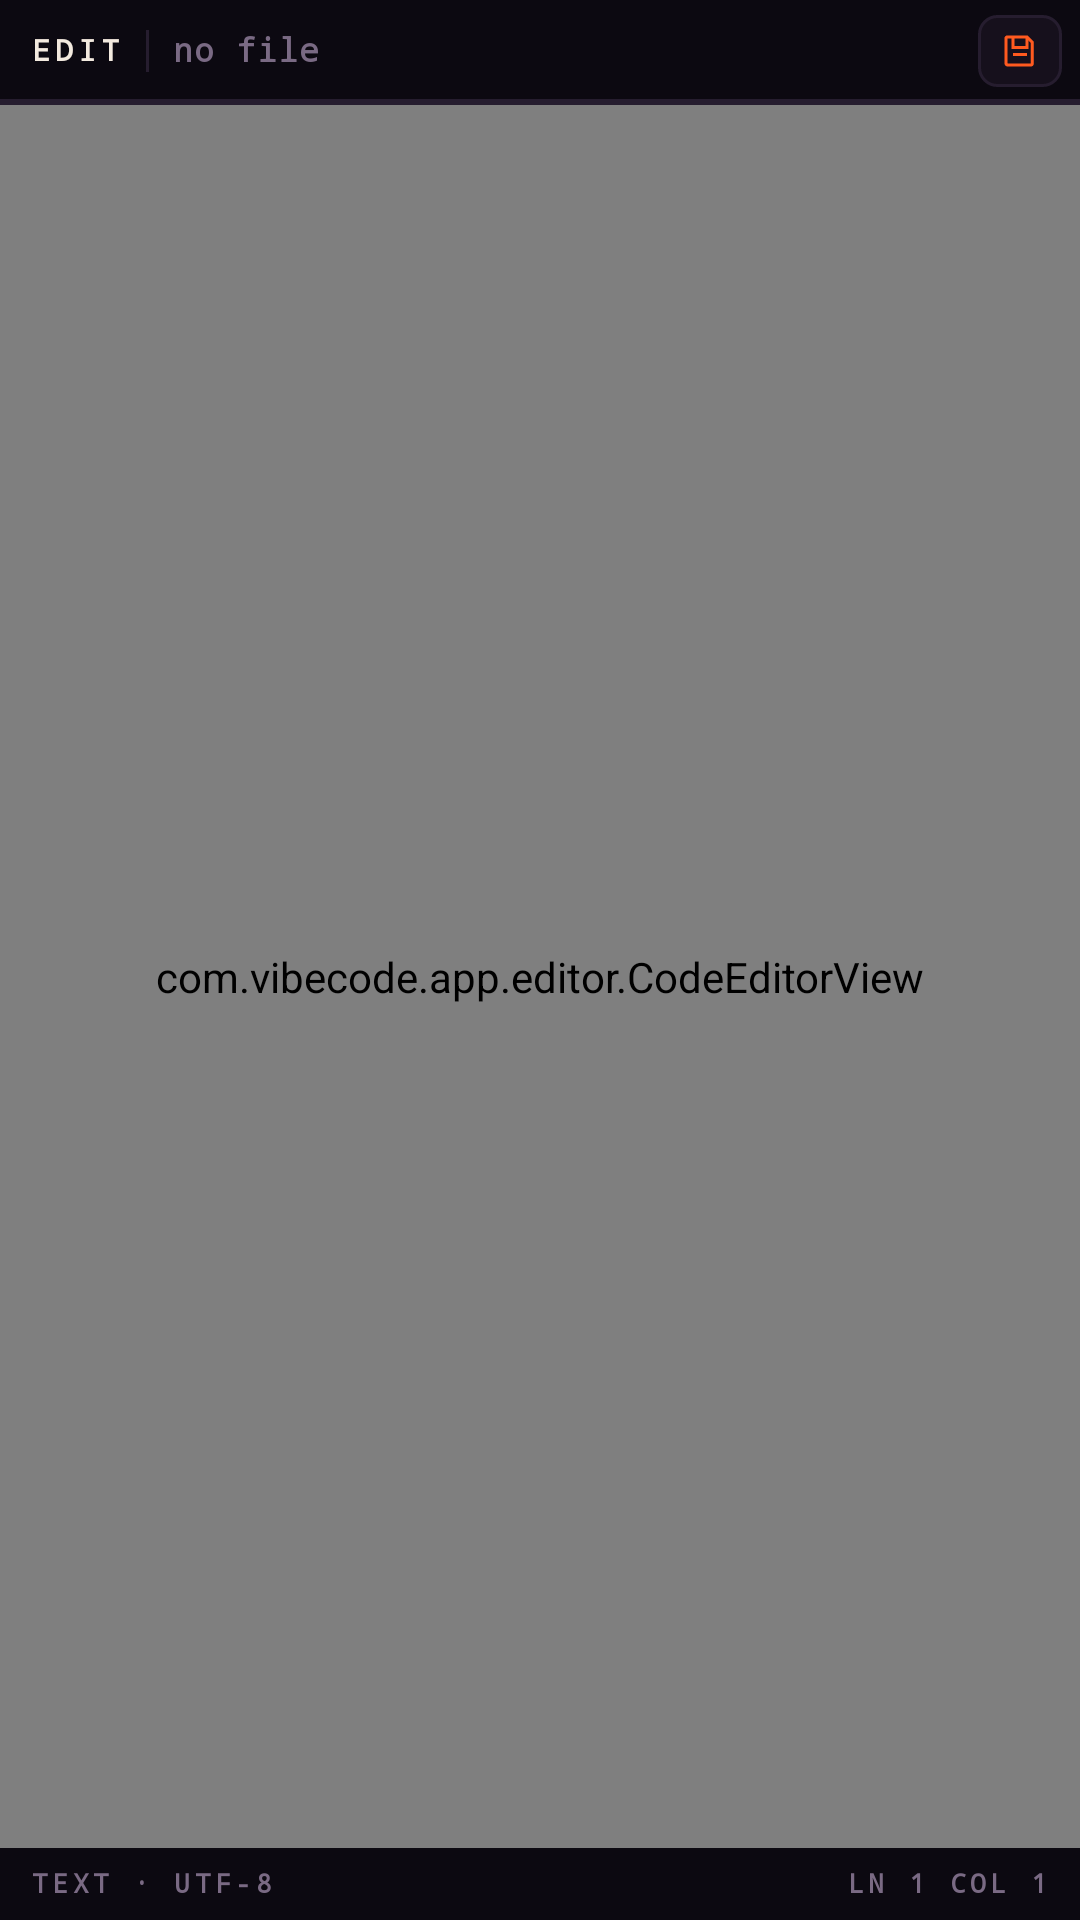

Screen size 1080*1920. Icon name, then its center in pixels as point (x, y):
Save: point (1020, 51)
